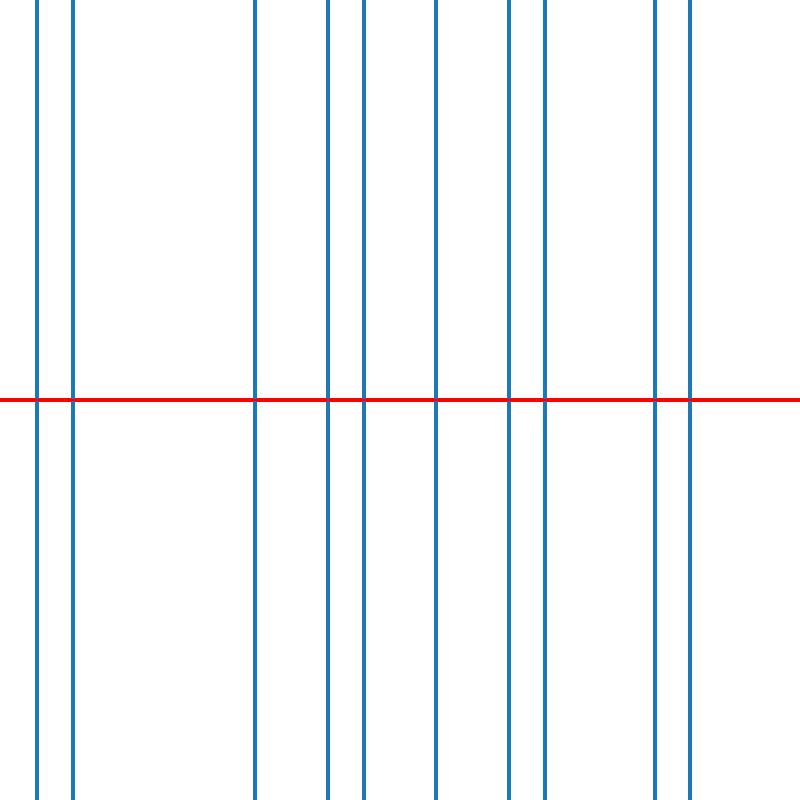root: (32, 396, 40, 404), (432, 396, 440, 404), (650, 396, 658, 404), (250, 396, 258, 404), (541, 396, 549, 404), (687, 396, 694, 404), (323, 396, 330, 404), (505, 396, 512, 404), (360, 396, 367, 404), (69, 396, 76, 404)
